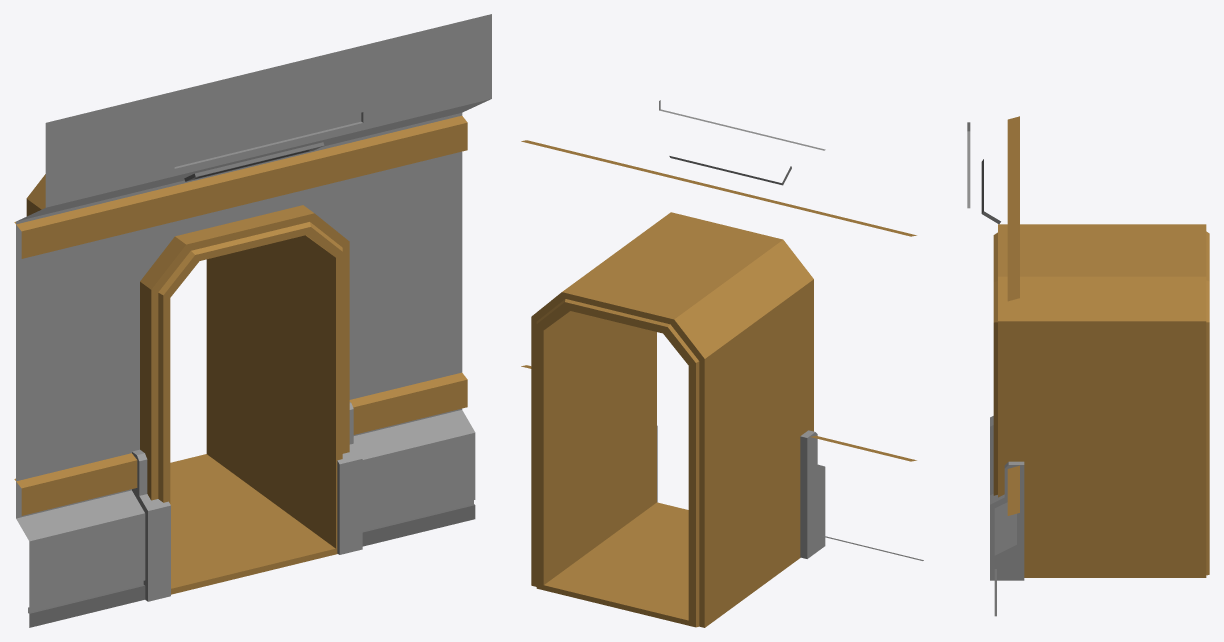
Rendered from quaternius-modular-sci-fi-door-single-long-wall-side-a.glb.
The picture shows the model from 3 angles, left to right: view 1: azimuth 30°, elevation 25°; view 2: azimuth 150°, elevation 25°; view 3: azimuth 270°, elevation 25°; orthographic projection. The views are drawn at different scales.
Visible parts, largest first — view 1: DoorSingleLong_Wall_SideA; view 2: DoorSingleLong_Wall_SideA; view 3: DoorSingleLong_Wall_SideA.
Part boxes in pixels (<box>): DoorSingleLong_Wall_SideA: <box>14,14,491,627</box>; DoorSingleLong_Wall_SideA: <box>521,100,923,627</box>; DoorSingleLong_Wall_SideA: <box>967,116,1209,616</box>.
Size of the model in its own units: 4 by 4.44 by 2.25.
